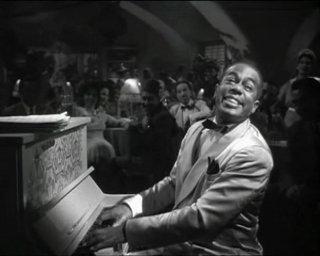face: (217, 69, 260, 117)
ms: (1, 1, 320, 256)
person: (82, 57, 273, 254)
